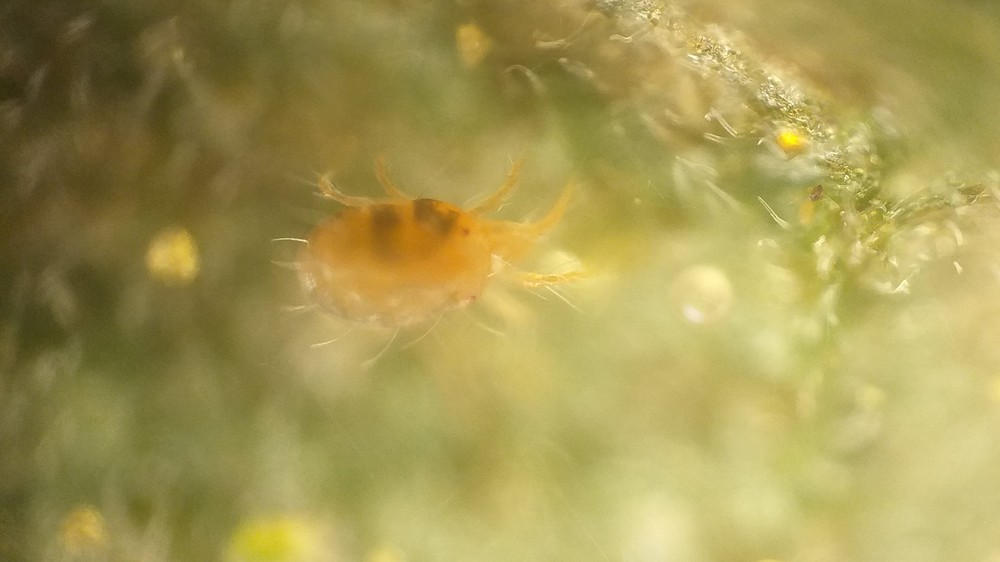Aracnido Rojo: (261, 115, 661, 353)
